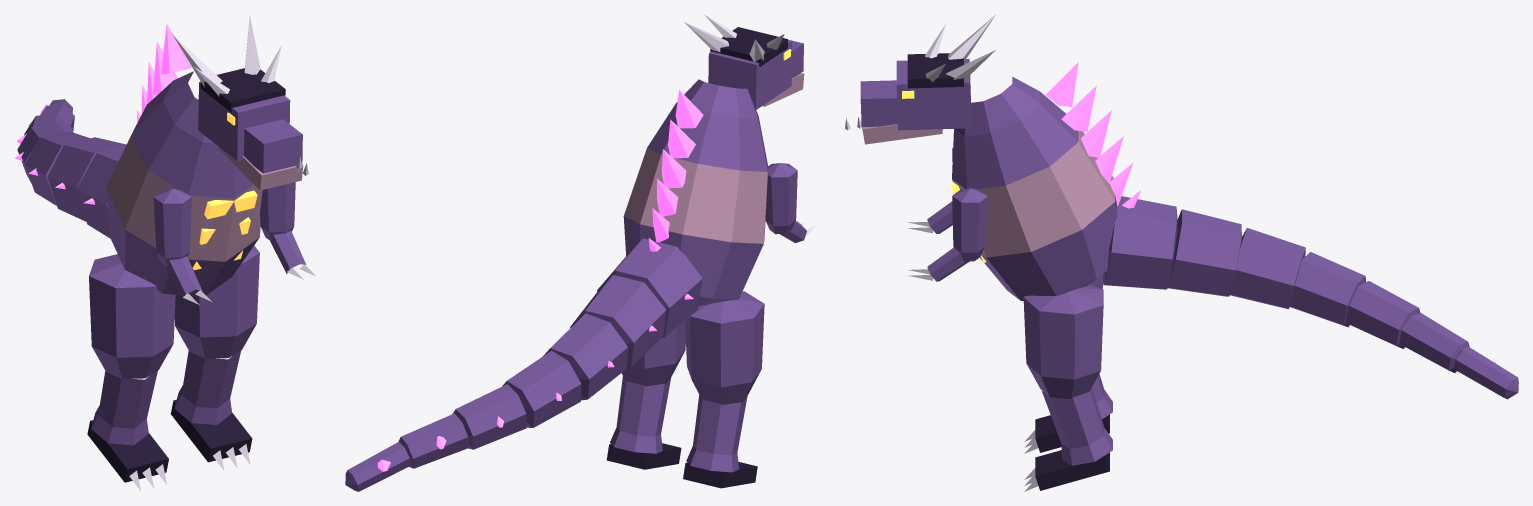
The model's file is arcade.kaiju.glb.
The picture shows the model from 3 angles, left to right: view 1: azimuth 30°, elevation 25°; view 2: azimuth 150°, elevation 25°; view 3: azimuth 270°, elevation 25°; orthographic projection. The views are drawn at different scales.
Parts seen in each view (by area): view 1: kaiju_body, kaiju_head, kaiju_leg_thigh_R, kaiju_leg_shin_L, kaiju_leg_shin_R, kaiju_leg_thigh_L, kaiju_tail_2, kaiju_arm_upper_R, kaiju_tail_1, kaiju_tail_3, kaiju_arm_upper_L, kaiju_jaw (+5 smaller); view 2: kaiju_body, kaiju_leg_thigh_R, kaiju_head, kaiju_leg_shin_L, kaiju_leg_shin_R, kaiju_tail_1, kaiju_tail_2, kaiju_tail_3, kaiju_tail_4, kaiju_tail_5, kaiju_tail_6, kaiju_leg_thigh_L (+2 smaller); view 3: kaiju_body, kaiju_head, kaiju_leg_thigh_L, kaiju_tail_1, kaiju_leg_shin_L, kaiju_tail_2, kaiju_tail_3, kaiju_tail_4, kaiju_tail_5, kaiju_tail_6, kaiju_arm_upper_L, kaiju_tail_7 (+3 smaller).
Part boxes in pixels (x1=…): kaiju_body: x1=106, y1=24, x2=262, y2=295; kaiju_head: x1=172, y1=14, x2=302, y2=173; kaiju_leg_thigh_R: x1=89, y1=254, x2=175, y2=378; kaiju_leg_shin_L: x1=171, y1=350, x2=252, y2=470; kaiju_leg_shin_R: x1=87, y1=371, x2=168, y2=490; kaiju_leg_thigh_L: x1=174, y1=245, x2=259, y2=358; kaiju_tail_2: x1=47, y1=137, x2=126, y2=221; kaiju_arm_upper_R: x1=153, y1=188, x2=191, y2=266; kaiju_tail_1: x1=77, y1=146, x2=125, y2=238; kaiju_tail_3: x1=25, y1=131, x2=89, y2=205; kaiju_arm_upper_L: x1=260, y1=182, x2=295, y2=241; kaiju_jaw: x1=218, y1=147, x2=308, y2=190; kaiju_body: x1=623, y1=79, x2=768, y2=306; kaiju_leg_thigh_R: x1=685, y1=291, x2=764, y2=404; kaiju_head: x1=684, y1=14, x2=803, y2=109; kaiju_leg_shin_L: x1=606, y1=376, x2=681, y2=469; kaiju_leg_shin_R: x1=683, y1=395, x2=757, y2=488; kaiju_tail_1: x1=597, y1=238, x2=702, y2=337; kaiju_tail_2: x1=570, y1=275, x2=666, y2=368; kaiju_tail_3: x1=543, y1=313, x2=628, y2=400; kaiju_tail_4: x1=502, y1=351, x2=581, y2=427; kaiju_tail_5: x1=452, y1=384, x2=526, y2=449; kaiju_tail_6: x1=398, y1=413, x2=468, y2=468; kaiju_leg_thigh_L: x1=621, y1=321, x2=685, y2=386; kaiju_body: x1=952, y1=62, x2=1140, y2=301; kaiju_head: x1=860, y1=14, x2=995, y2=130; kaiju_leg_thigh_L: x1=1023, y1=284, x2=1103, y2=399; kaiju_tail_1: x1=1103, y1=196, x2=1177, y2=289; kaiju_leg_shin_L: x1=1024, y1=387, x2=1112, y2=491; kaiju_tail_2: x1=1168, y1=209, x2=1241, y2=296; kaiju_tail_3: x1=1230, y1=228, x2=1305, y2=309; kaiju_tail_4: x1=1289, y1=252, x2=1365, y2=327; kaiju_tail_5: x1=1345, y1=281, x2=1420, y2=348; kaiju_tail_6: x1=1399, y1=313, x2=1469, y2=373; kaiju_arm_upper_L: x1=952, y1=188, x2=987, y2=261; kaiju_tail_7: x1=1453, y1=347, x2=1518, y2=399.
Bounding box in the file's own units: 4.13 × 8.55 × 11.99.
